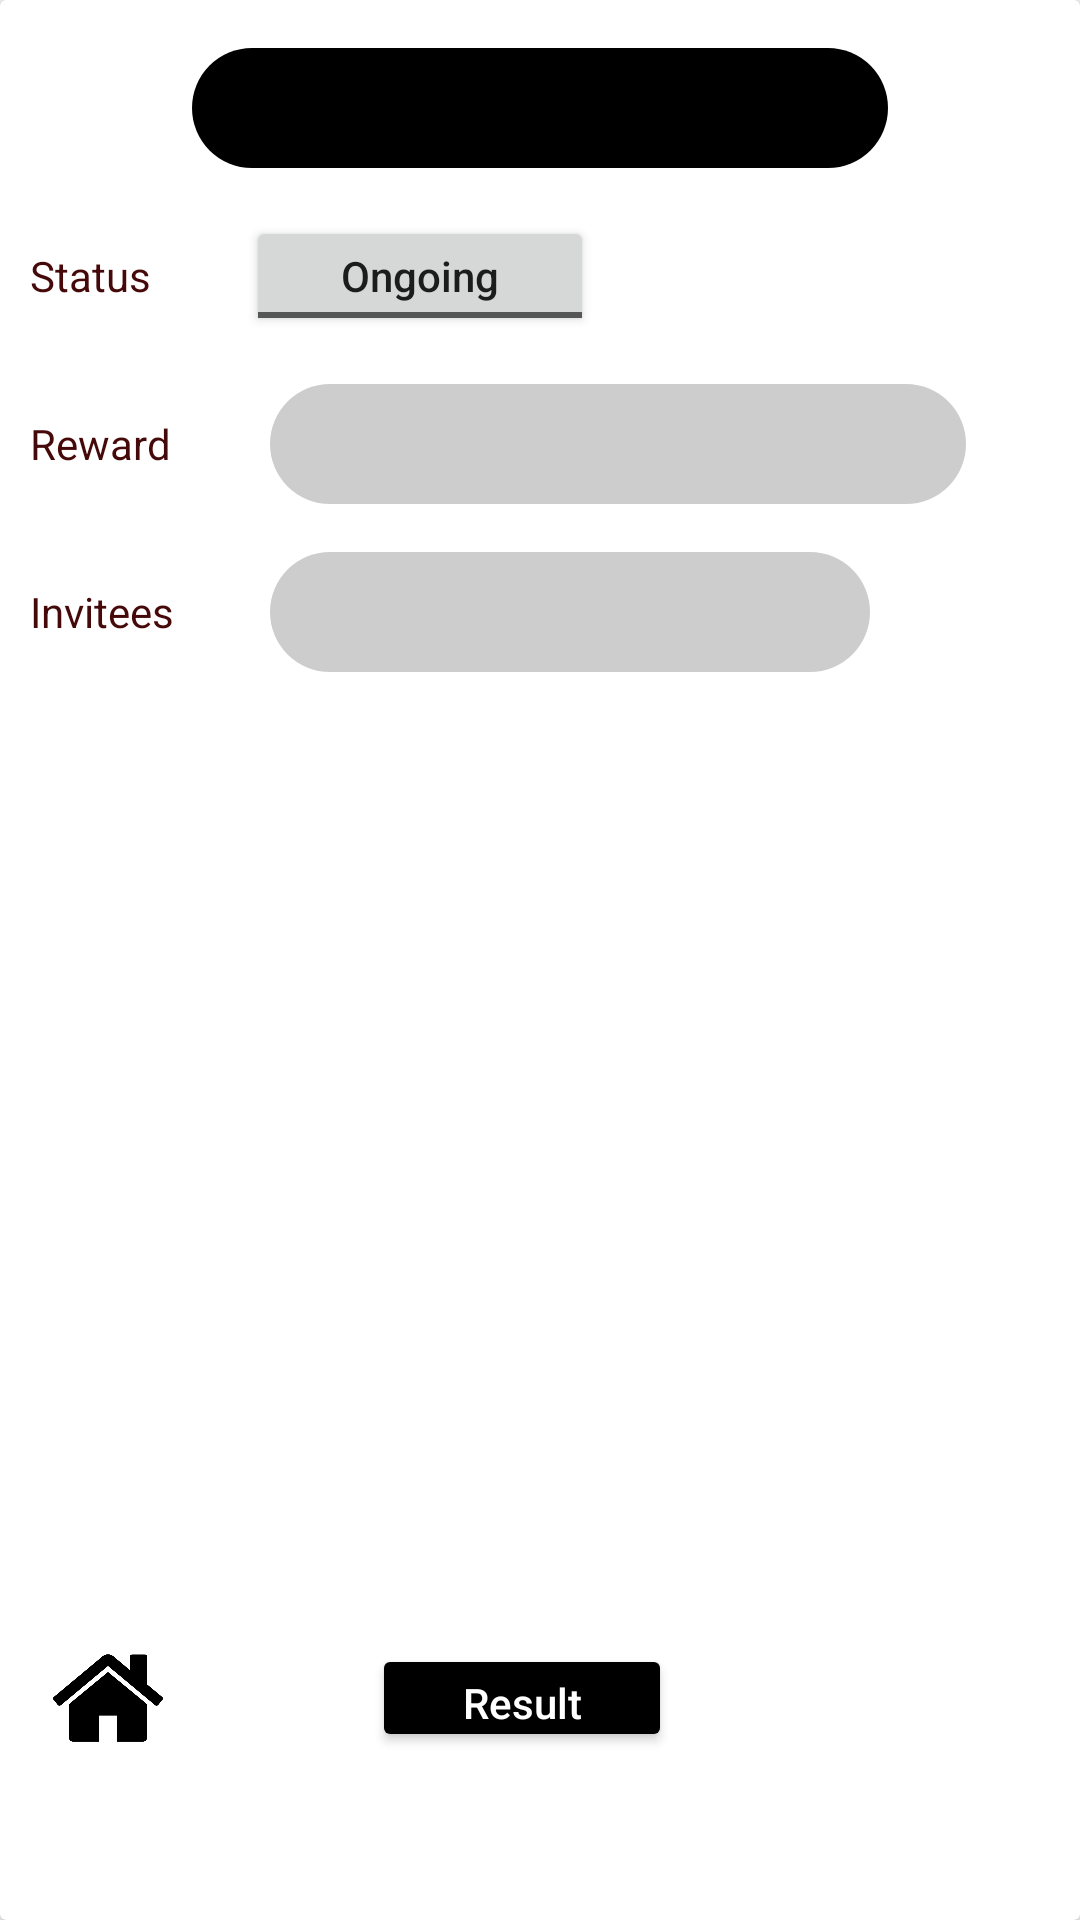

Where to tap for icons on this 1080*1920 app screen, as (x=x, y=y):
home: (x=108, y=1698)
